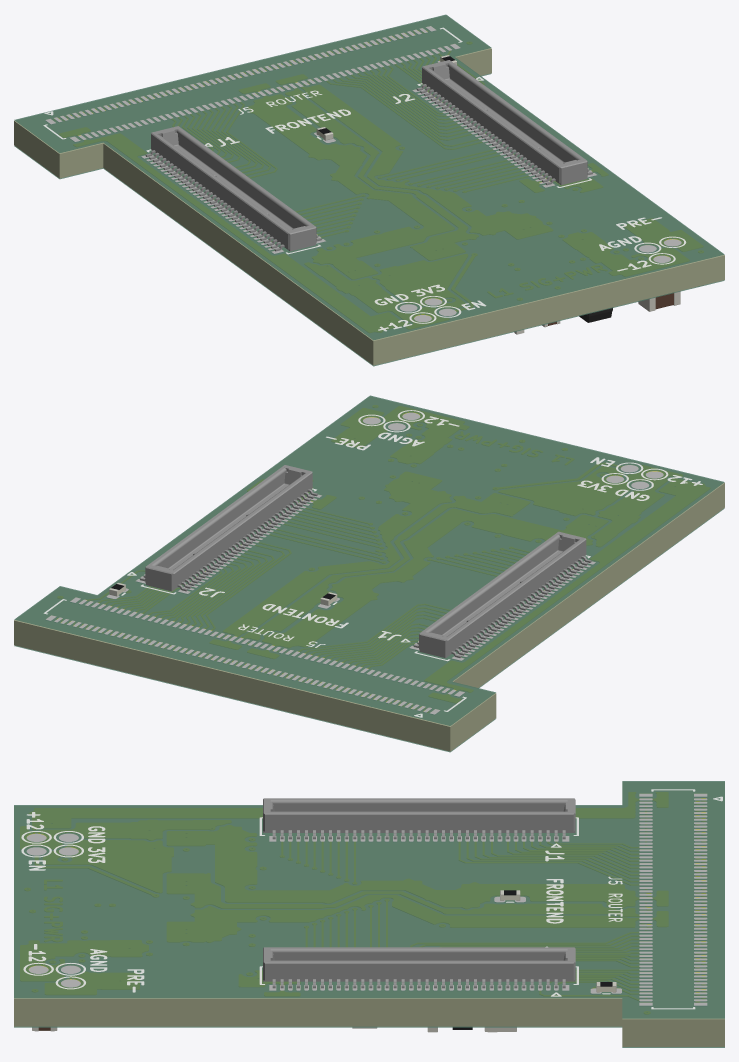
Rendered from ldo.glb.
3 views of the same model, one above another, from view 1: azimuth 30°, elevation 25°; view 2: azimuth 150°, elevation 25°; view 3: azimuth 270°, elevation 25° (orthographic). The views are drawn at different scales.
Parts seen in each view (by area): view 1: =>[0:1:1:39], =>[0:1:1:41], =>[0:1:1:34], =>[0:1:1:3] (×2), =>[0:1:1:35], =>[0:1:1:37], =>[0:1:1:40]; view 2: =>[0:1:1:39], =>[0:1:1:41], =>[0:1:1:34], =>[0:1:1:3] (×2), =>[0:1:1:35], =>[0:1:1:37], =>[0:1:1:40]; view 3: =>[0:1:1:39], =>[0:1:1:41], =>[0:1:1:34], =>[0:1:1:3] (×2), =>[0:1:1:35], =>[0:1:1:37], =>[0:1:1:40].
Boxes of the visible parts, left/top/right/bottom form: =>[0:1:1:39]: left=14, top=14, right=724, bottom=340; =>[0:1:1:41]: left=14, top=16, right=724, bottom=365; =>[0:1:1:34]: left=54, top=30, right=703, bottom=332; =>[0:1:1:3] (×2): left=145, top=60, right=592, bottom=251; =>[0:1:1:35]: left=45, top=26, right=681, bottom=322; =>[0:1:1:37]: left=43, top=27, right=686, bottom=331; =>[0:1:1:40]: left=14, top=73, right=724, bottom=366; =>[0:1:1:39]: left=14, top=395, right=724, bottom=725; =>[0:1:1:41]: left=14, top=397, right=724, bottom=751; =>[0:1:1:34]: left=57, top=405, right=709, bottom=712; =>[0:1:1:3] (×2): left=140, top=465, right=591, bottom=657; =>[0:1:1:35]: left=46, top=412, right=663, bottom=714; =>[0:1:1:37]: left=43, top=410, right=702, bottom=717; =>[0:1:1:40]: left=14, top=508, right=724, bottom=752; =>[0:1:1:39]: left=14, top=781, right=724, bottom=1018; =>[0:1:1:41]: left=14, top=782, right=724, bottom=1046; =>[0:1:1:34]: left=20, top=792, right=705, bottom=1013; =>[0:1:1:3] (×2): left=263, top=798, right=575, bottom=988; =>[0:1:1:35]: left=26, top=794, right=707, bottom=1005; =>[0:1:1:37]: left=21, top=789, right=722, bottom=1009; =>[0:1:1:40]: left=14, top=1026, right=724, bottom=1047.
Size of the model in its own units: 0.0279 by 0.00442 by 0.0353.
